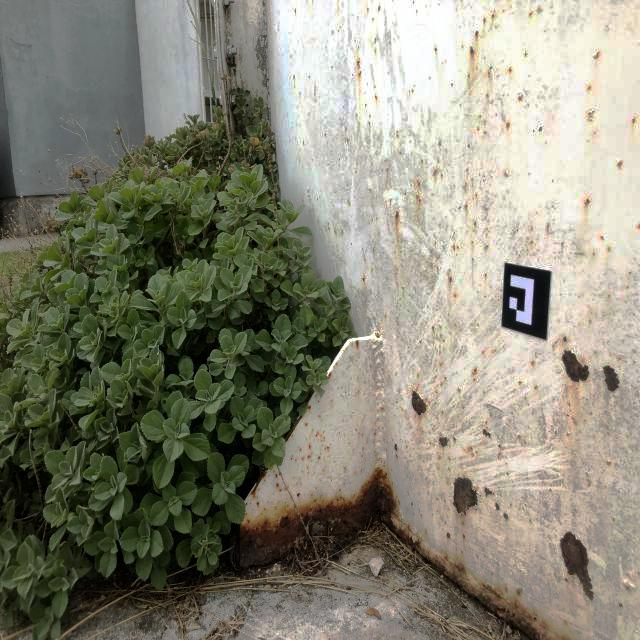Corrosion: (237, 463, 576, 640), (559, 531, 594, 602), (452, 475, 482, 518), (561, 349, 590, 384), (285, 404, 311, 443), (250, 468, 268, 506), (411, 384, 427, 419), (602, 365, 621, 393), (438, 433, 448, 449), (484, 486, 496, 497), (276, 482, 287, 492), (315, 431, 325, 441), (483, 427, 491, 438), (586, 472, 591, 487), (471, 367, 477, 377), (588, 110, 594, 120), (617, 160, 624, 168), (503, 512, 509, 521), (584, 198, 590, 206), (327, 372, 332, 381), (394, 443, 399, 452), (495, 502, 500, 511), (470, 46, 475, 55), (307, 452, 313, 459), (375, 450, 379, 460), (446, 532, 451, 540), (460, 520, 465, 528), (356, 338, 359, 350), (395, 211, 399, 220), (562, 336, 567, 343), (572, 418, 577, 424), (453, 436, 457, 443), (462, 533, 466, 540), (475, 30, 479, 37), (564, 577, 569, 582), (373, 429, 377, 435), (468, 446, 472, 452), (619, 602, 623, 608), (626, 585, 630, 591), (297, 492, 301, 497), (375, 333, 380, 337), (381, 407, 385, 412), (360, 468, 365, 472), (606, 461, 611, 465), (518, 96, 522, 101), (358, 71, 362, 76), (506, 122, 509, 128), (314, 394, 318, 398), (327, 446, 331, 450), (491, 14, 495, 18), (417, 182, 421, 186), (362, 277, 365, 282), (362, 446, 365, 451), (411, 501, 414, 506), (531, 360, 534, 365), (554, 430, 557, 435), (632, 118, 635, 123), (449, 277, 452, 282), (498, 452, 500, 459), (275, 474, 278, 478), (309, 444, 311, 450), (305, 423, 308, 427), (396, 455, 399, 459), (290, 456, 293, 460), (498, 444, 501, 448), (458, 388, 461, 392), (601, 236, 604, 240), (357, 61, 360, 65), (434, 47, 437, 51), (434, 170, 437, 174), (344, 466, 346, 471), (638, 224, 640, 229), (375, 95, 377, 100), (566, 414, 569, 417), (509, 69, 512, 72), (246, 502, 248, 506), (318, 456, 320, 460), (483, 18, 485, 22), (378, 7, 380, 11), (300, 448, 302, 451), (302, 458, 304, 461), (444, 376, 446, 379), (441, 410, 443, 413), (529, 519, 531, 522), (488, 72, 490, 75), (530, 13, 532, 16), (432, 326, 434, 329), (507, 473, 509, 475), (519, 381, 521, 383), (420, 340, 421, 344), (448, 438, 449, 442)
